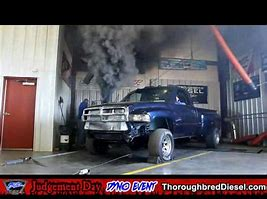smoke: (70, 25, 191, 101)
